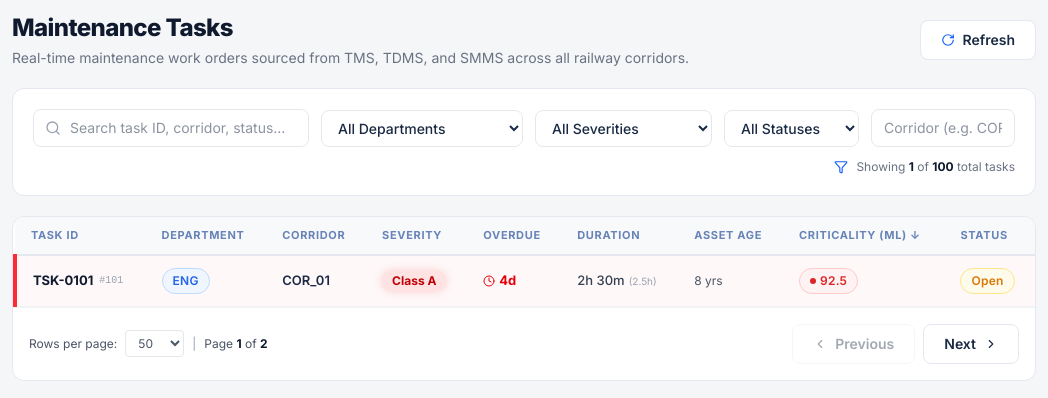
TasksPage - Pagination Controls › supports pagination page navigation
expect the text "TSK-0101" is shown: met, box [33, 271, 93, 290]
Click the button "Next": (971, 344) [923, 324, 1019, 364]
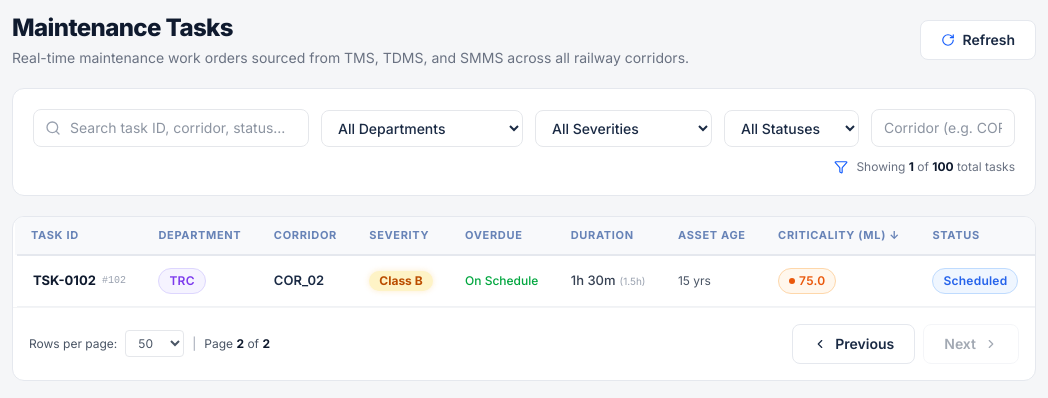
expect the text "TSK-0102" is shown: met, box [33, 271, 96, 290]
